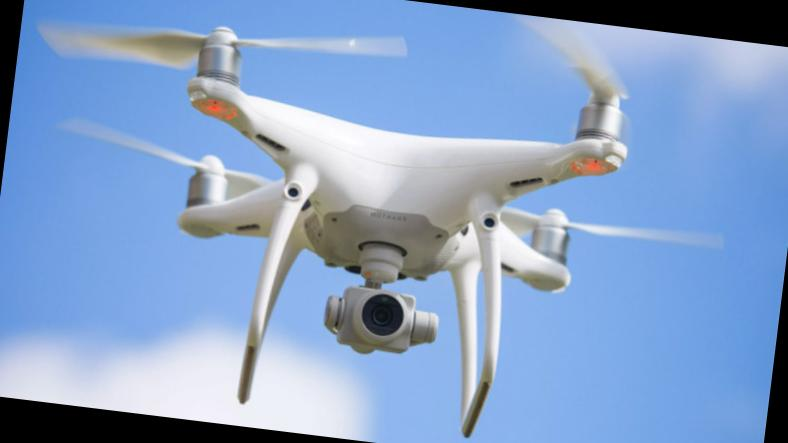drone: (38, 0, 694, 344)
